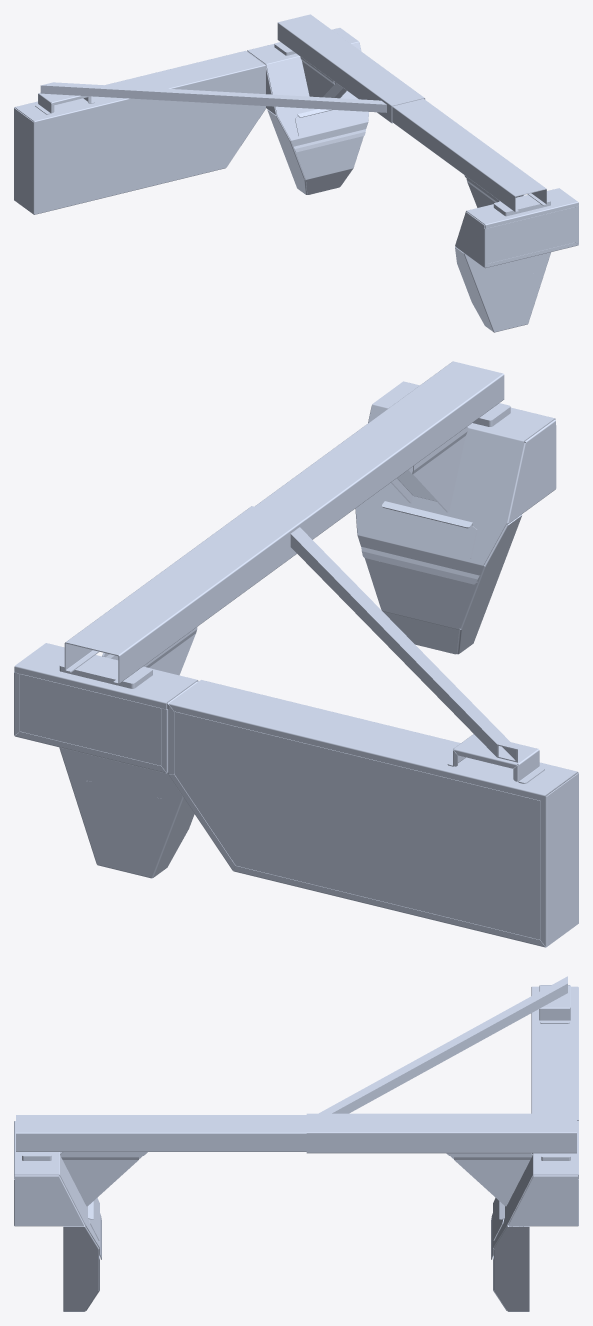
File: MCA00305.dae
The picture shows the model from 3 angles, top to bottom: view 1: azimuth 30°, elevation 25°; view 2: azimuth 150°, elevation 25°; view 3: azimuth 270°, elevation 25°; orthographic projection. The views are drawn at different scales.
Visible parts, largest first — view 1: Body_1 (×16); view 2: Body_1 (×19); view 3: Body_1 (×13).
Boxes of the visible parts, x1,y1,x2,y2 form: Body_1 (×16): [14, 14, 578, 332]; Body_1 (×19): [14, 361, 578, 947]; Body_1 (×13): [14, 976, 578, 1311].
Size of the model in its own units: 2.11 by 2.66 by 0.934.
